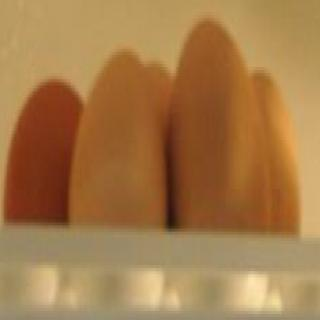egg: (1, 3, 320, 320)
